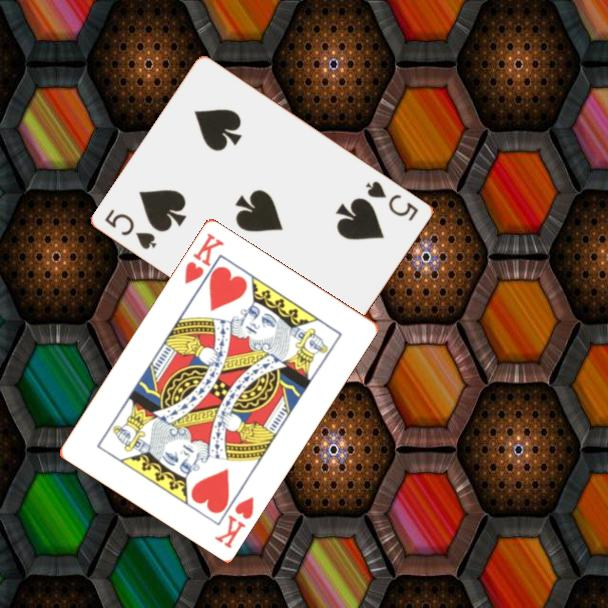h13: (181, 229, 227, 287), (211, 493, 257, 551)
s05: (362, 177, 422, 224), (101, 206, 160, 253)
